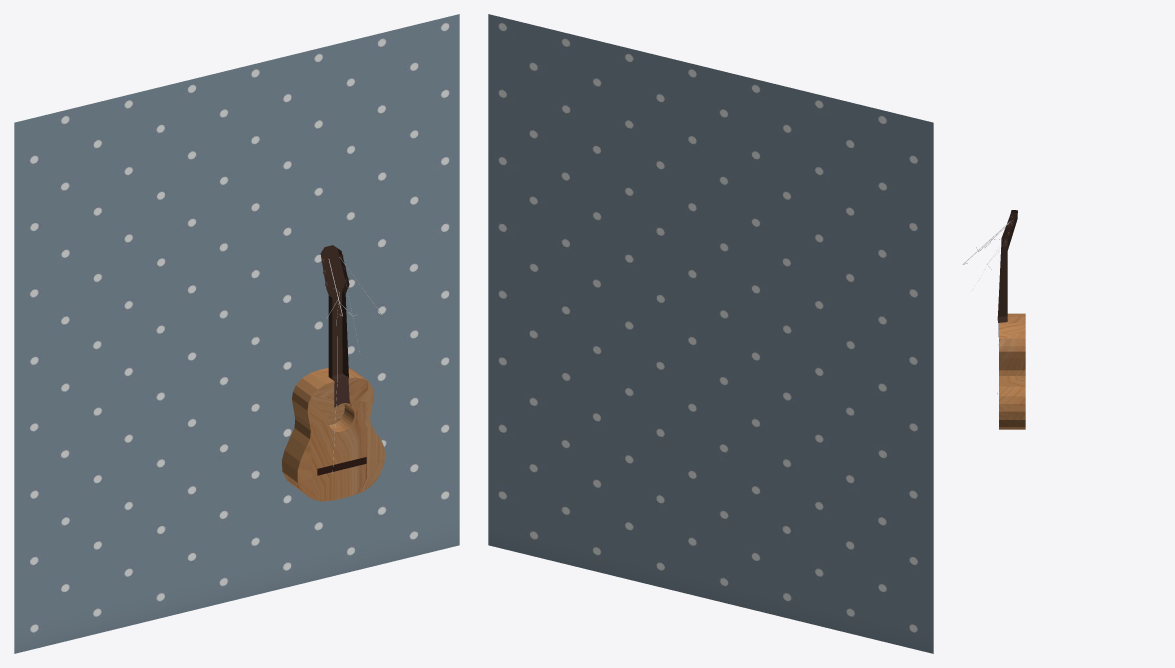
The model's file is project2final.glb.
3 renders of one model, left to right at view 1: azimuth 30°, elevation 25°; view 2: azimuth 150°, elevation 25°; view 3: azimuth 270°, elevation 25°, orthographic. The views are drawn at different scales.
Visible parts, largest first — view 1: Plane.008, Plane, Plane.001; view 2: Plane.008; view 3: Plane, Plane.001.
Boxes of the visible parts, left/top/right/bottom form: Plane.008: left=14, top=14, right=459, bottom=653; Plane: left=282, top=367, right=385, bottom=501; Plane.001: left=320, top=245, right=349, bottom=381; Plane.008: left=488, top=14, right=933, bottom=653; Plane: left=999, top=313, right=1025, bottom=429; Plane.001: left=998, top=210, right=1017, bottom=322.
Bounding box in the file's own units: 13.62 × 15.52 × 6.14.
Materials: 16 (2 with a texture image).
